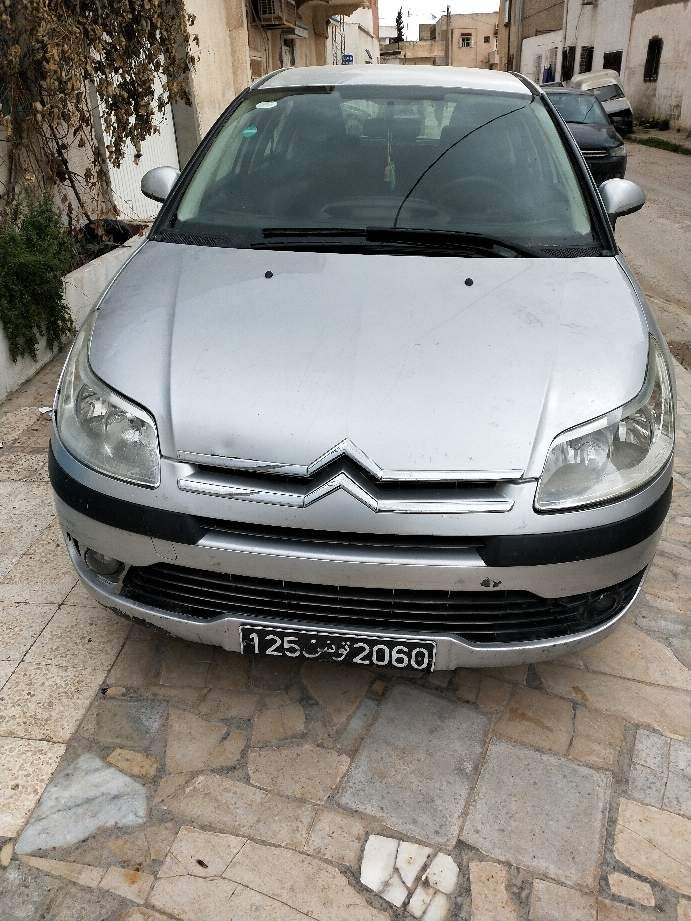LP: (237, 622, 437, 678)
